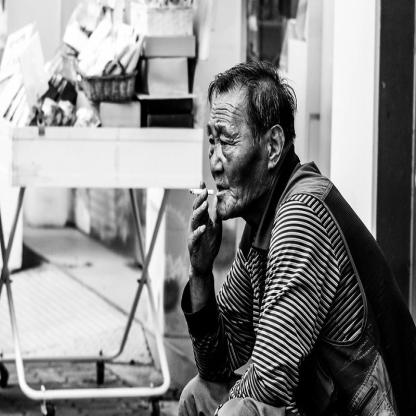smoking: (188, 188, 214, 196)
